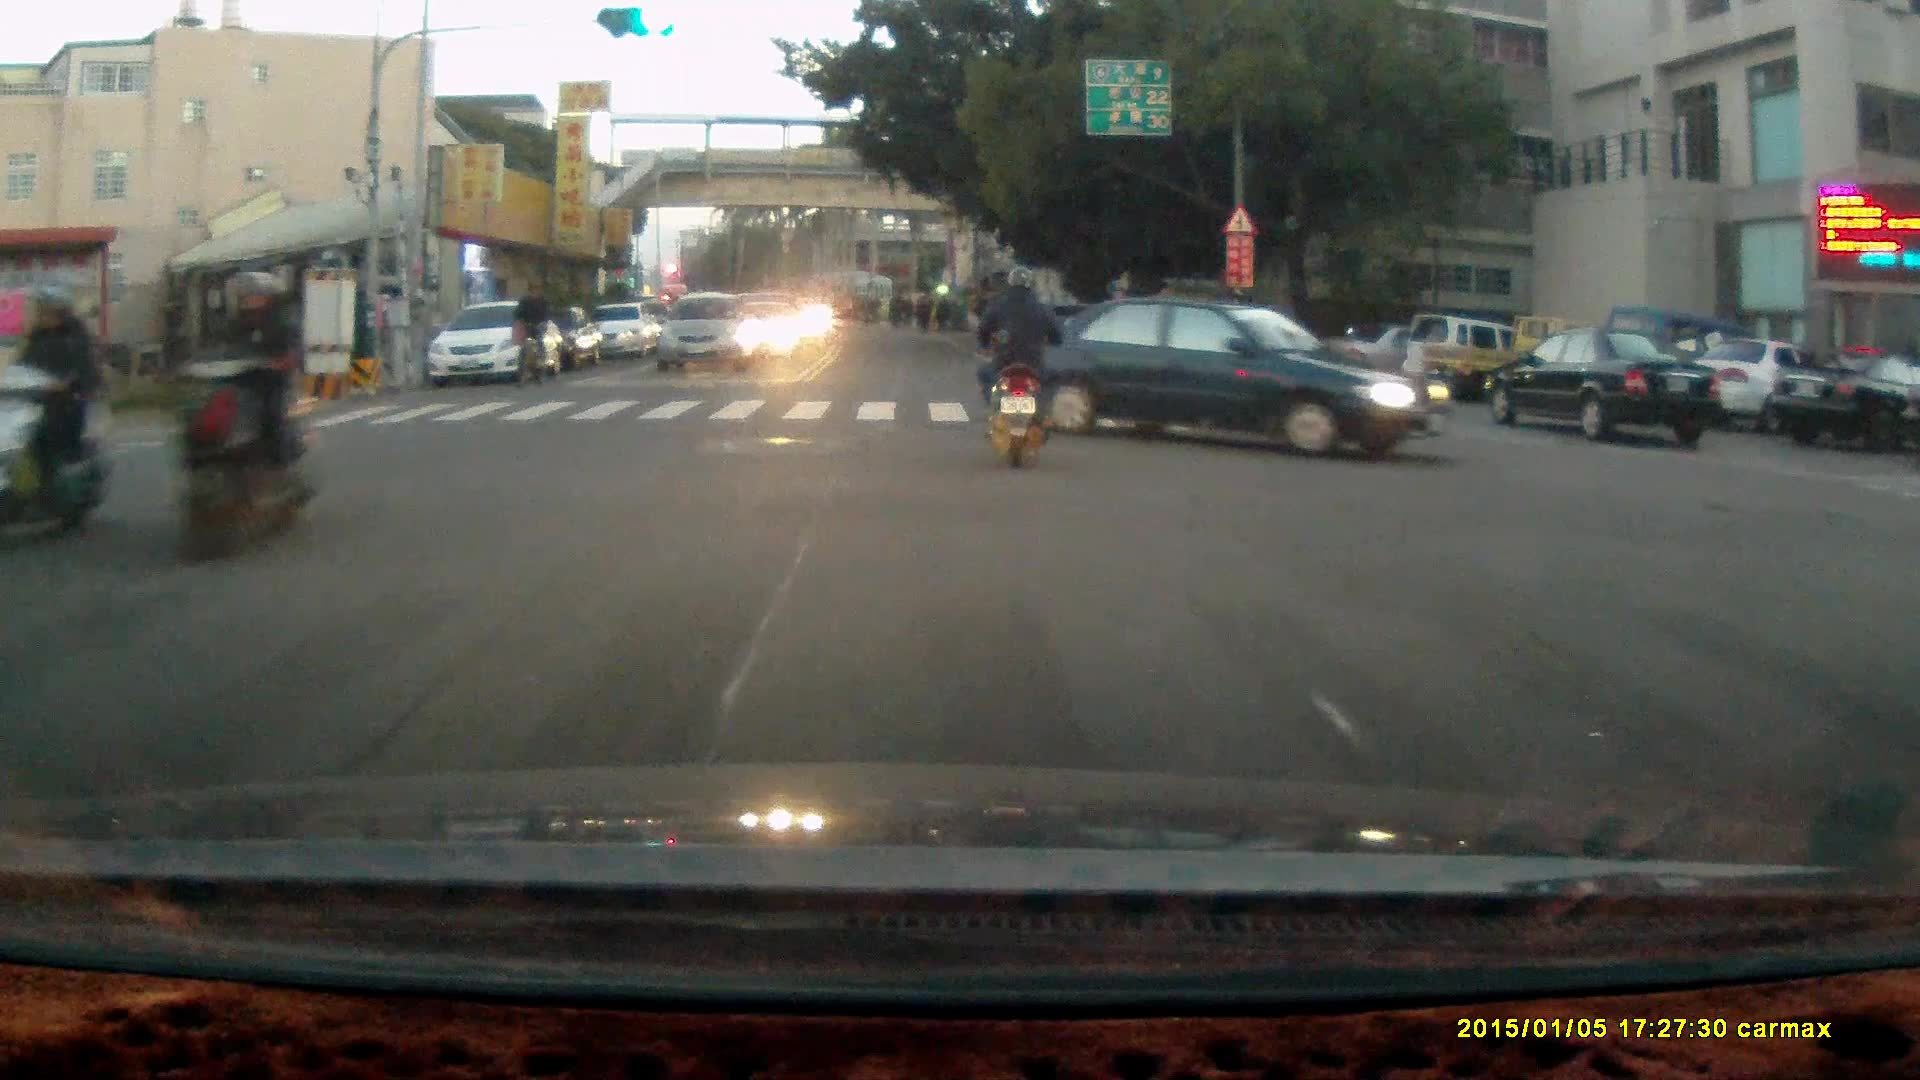rider: (166, 265, 319, 572), (0, 275, 106, 550), (972, 265, 1065, 468), (509, 279, 550, 385)
vehicle: (980, 289, 1445, 465), (1489, 329, 1724, 449), (1411, 315, 1632, 408), (1673, 336, 1862, 438), (1768, 352, 1920, 454), (427, 293, 567, 383), (655, 293, 762, 375)
